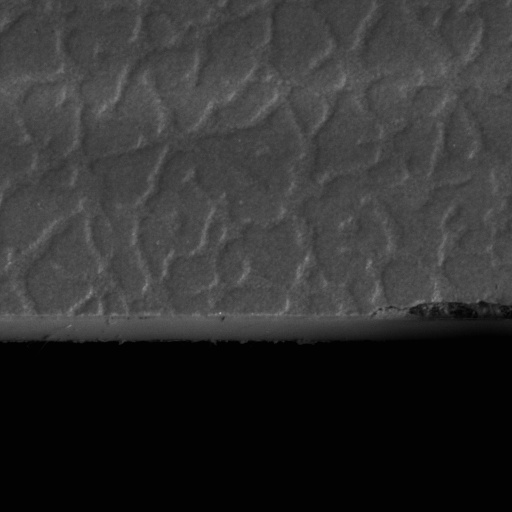bengque: (373, 299, 511, 324)
